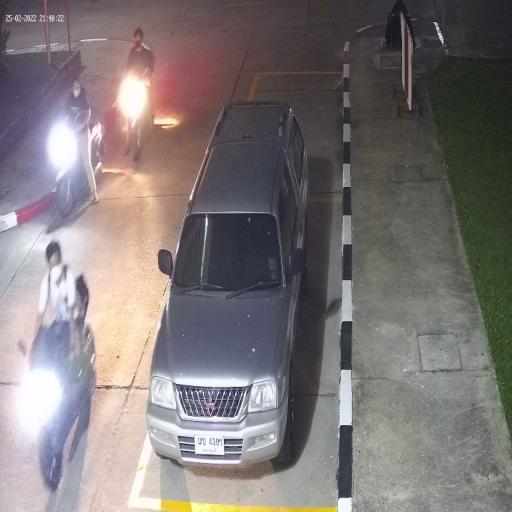car: (145, 100, 310, 471)
motorcycle: (22, 327, 96, 492), (52, 122, 108, 218), (120, 73, 148, 167)
